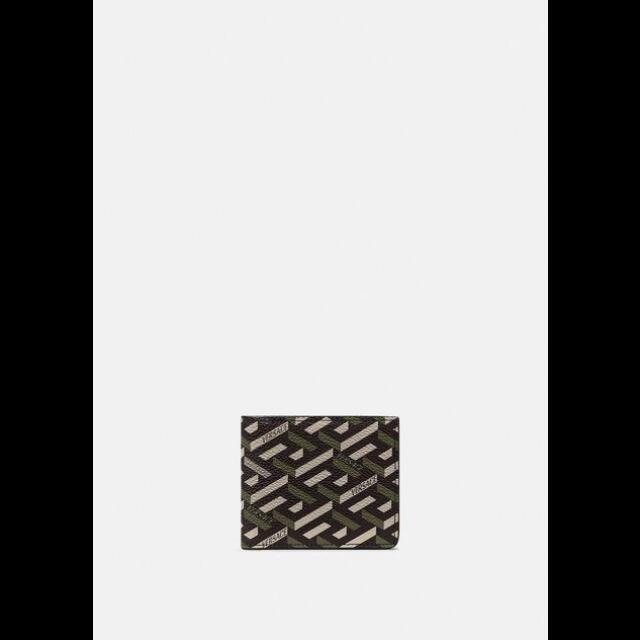wallet: (235, 411, 403, 553)
